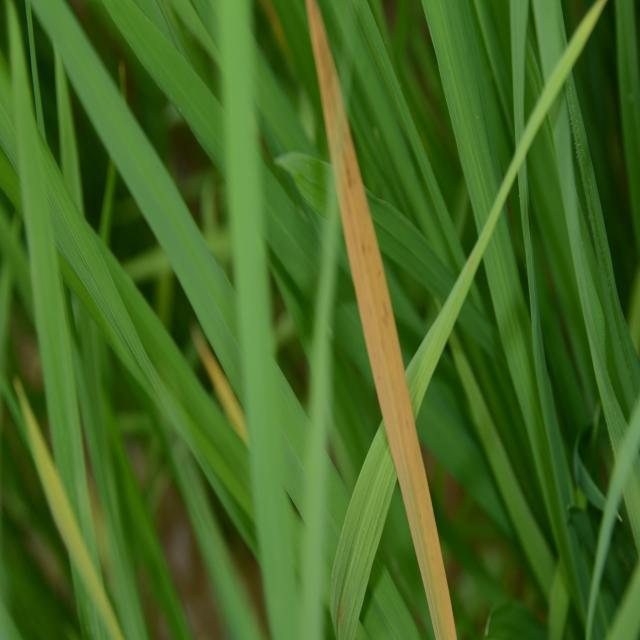Rice Tungro: (305, 0, 455, 640)
